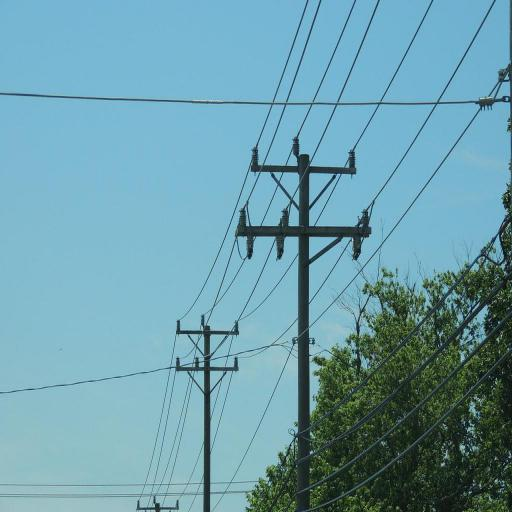mono_8: (238, 147, 372, 511), (176, 316, 240, 511)
